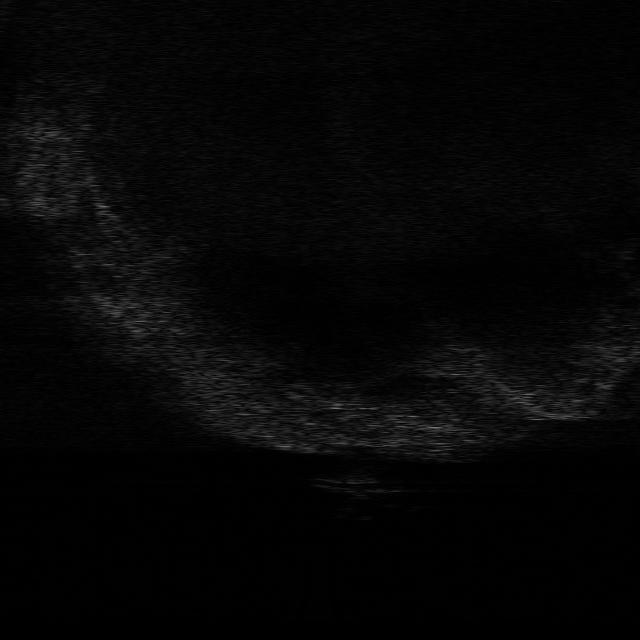plane: (314, 473, 406, 503)
